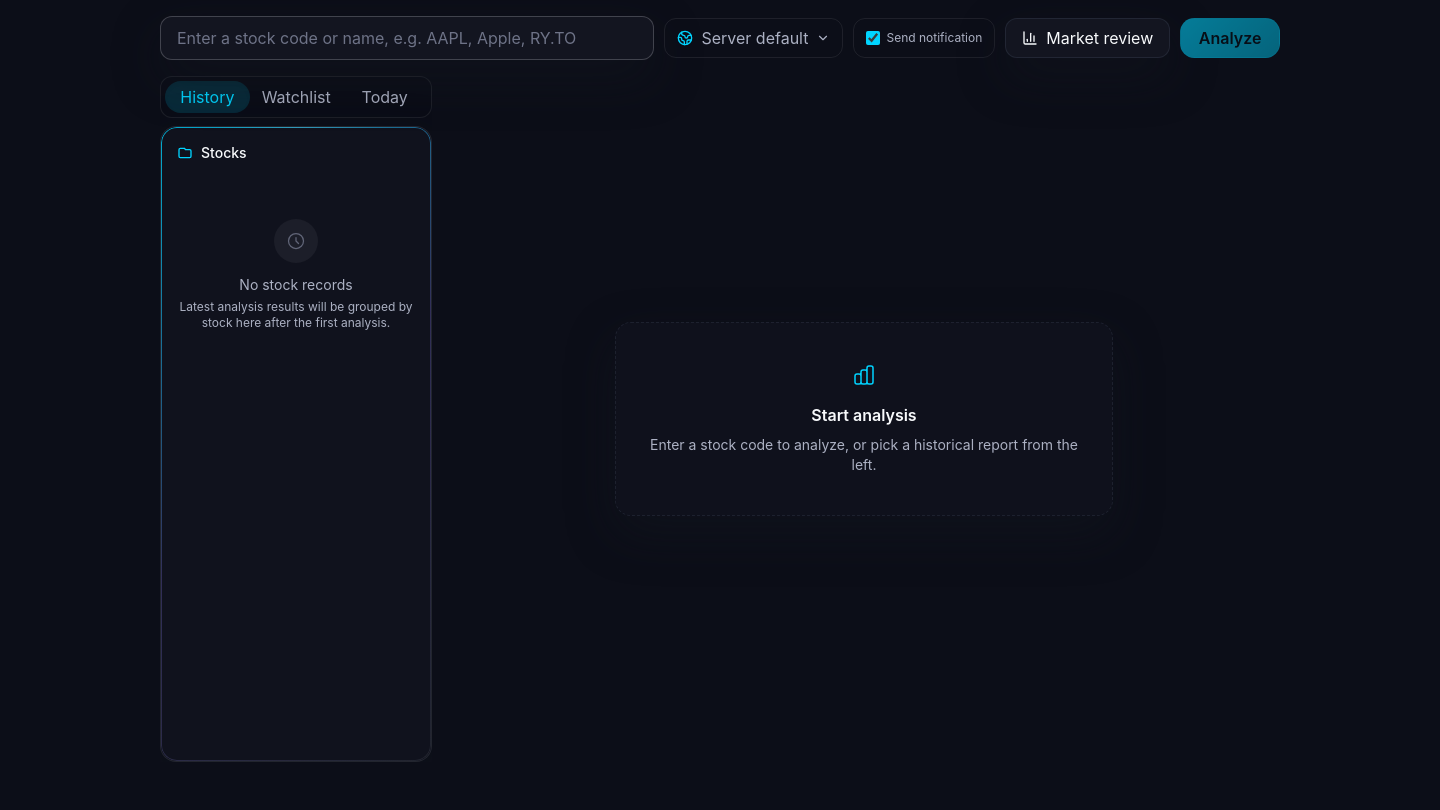
Scenario: HomePage › shows explicit feedback when a watchlist row has no report details yet
The width and height of the screenshot is (1440, 810).
Click the button "Watchlist": [296, 97] box [254,81,338,113]
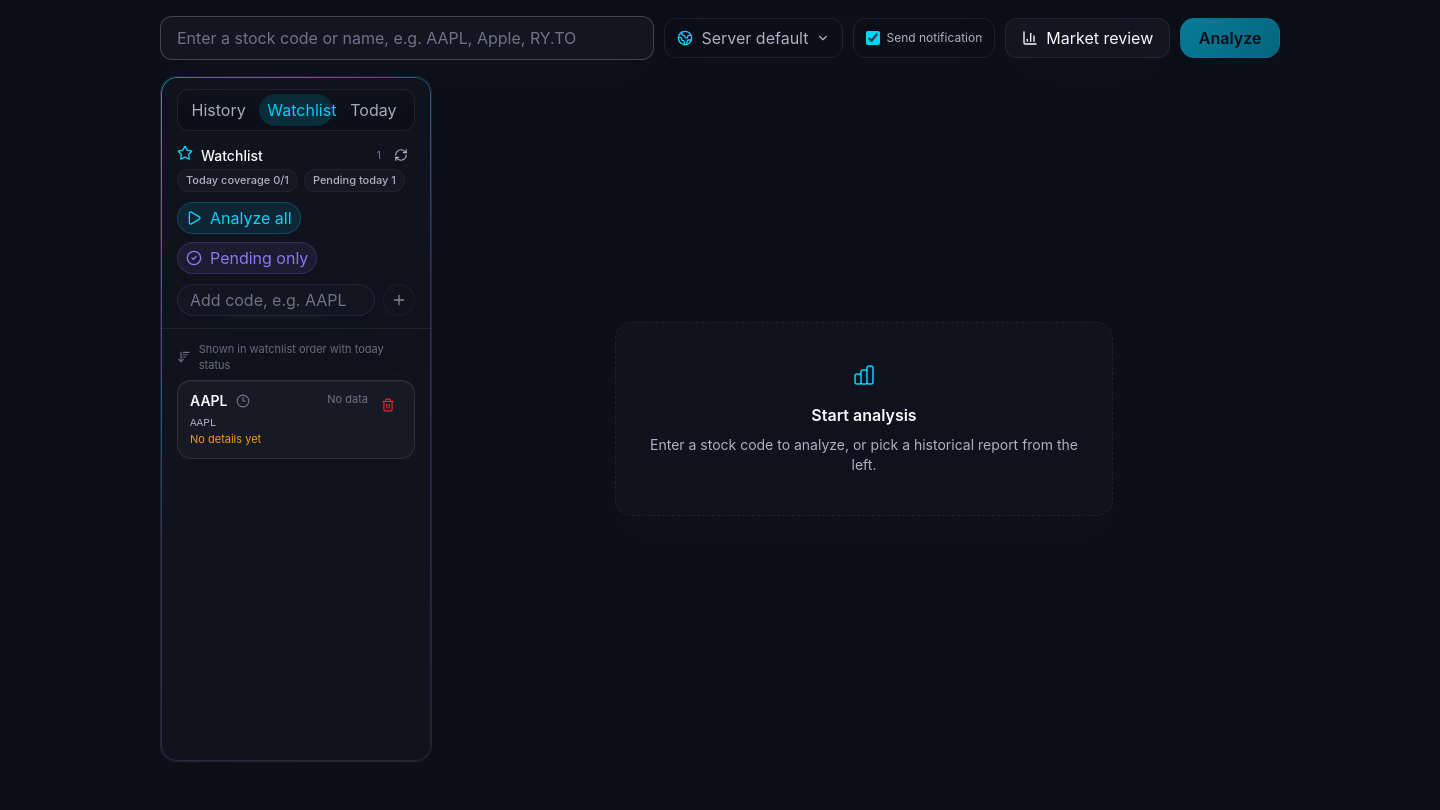
Click the button with aria-label "No analysis details for AAPL yet. Run an analysis first.": [255, 419] box [190,390,319,448]
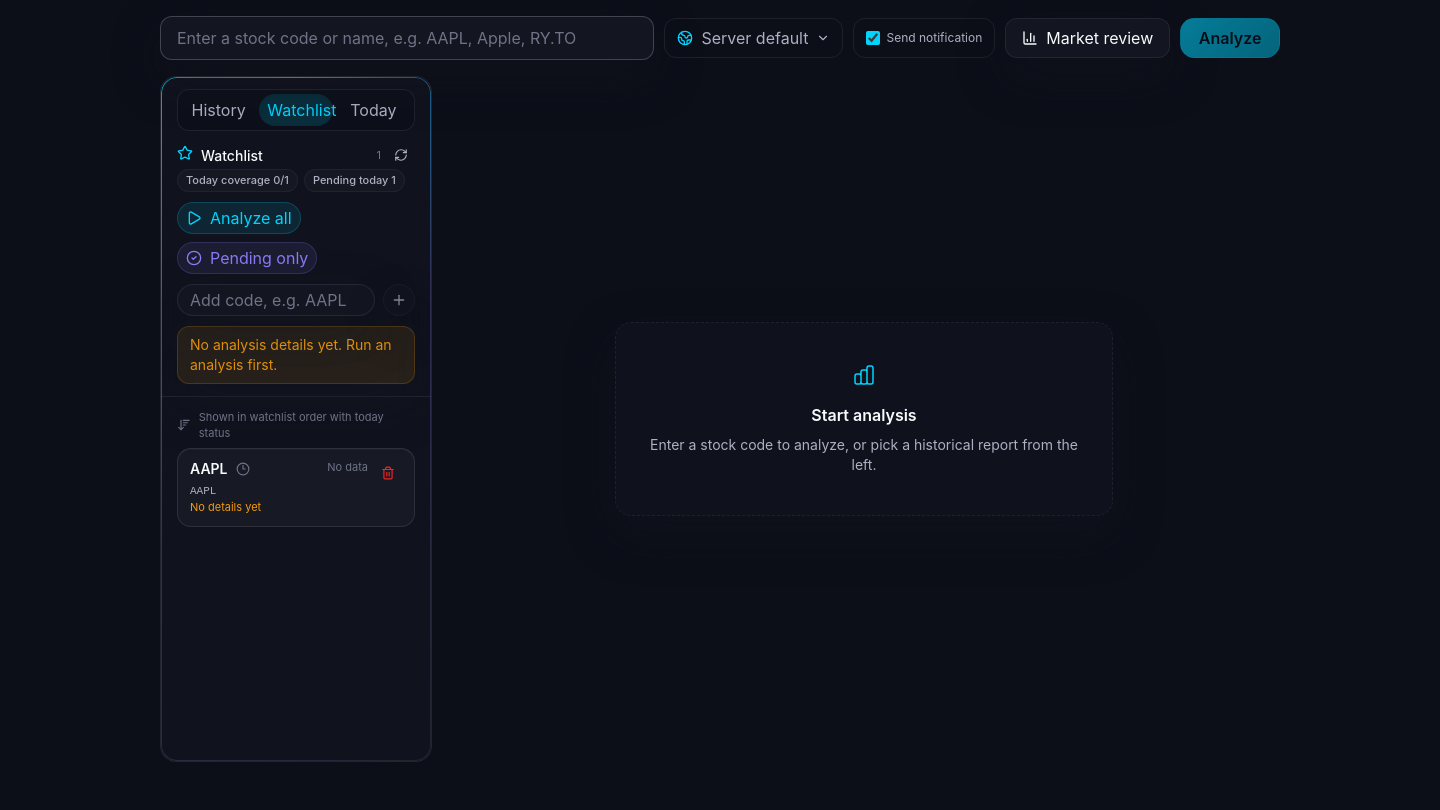
expect the message reads "No analysis details yet. Run an analysis first.": met, box [190,336,392,372]
